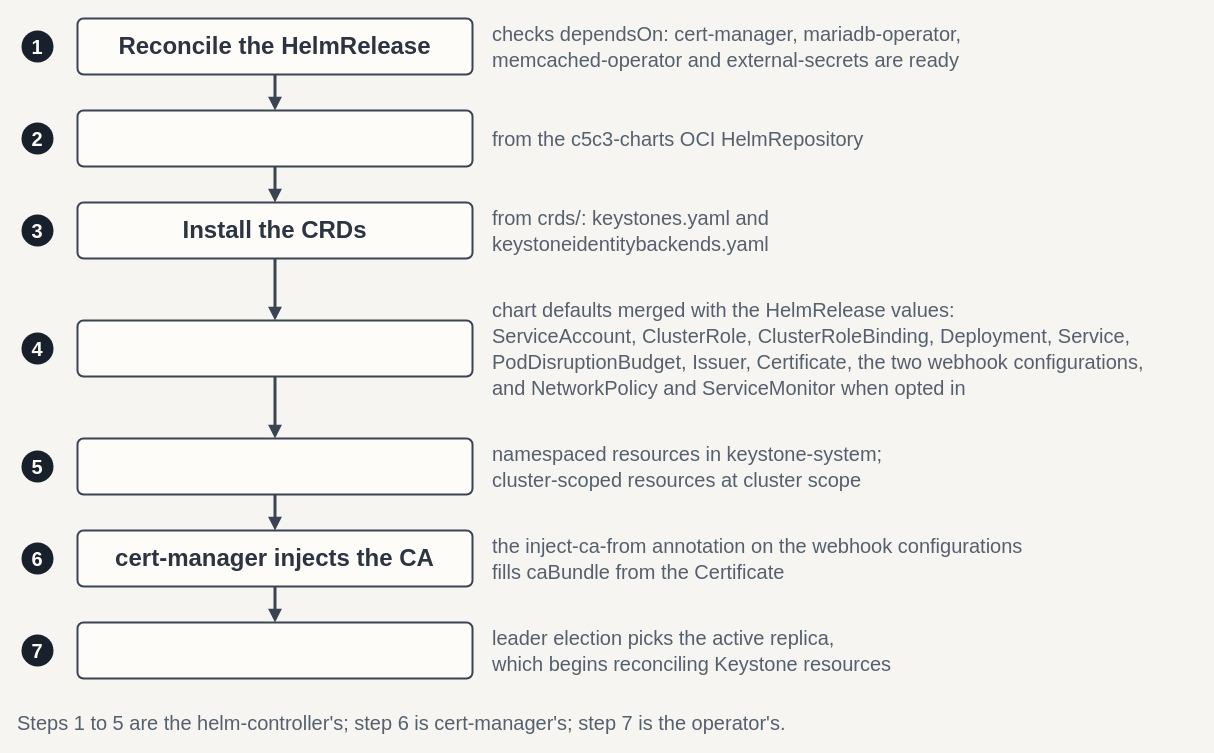
The diagram is 1214 pixels wide and 753 high, and some of its shapes have lost their labels. Each missing label, with the centre of its shape:
"Apply the resources" belongs at point 274,466.
"Fetch the chart" belongs at point 274,138.
"Render the templates" belongs at point 274,348.
"The operator pods start" belongs at point 274,650.
